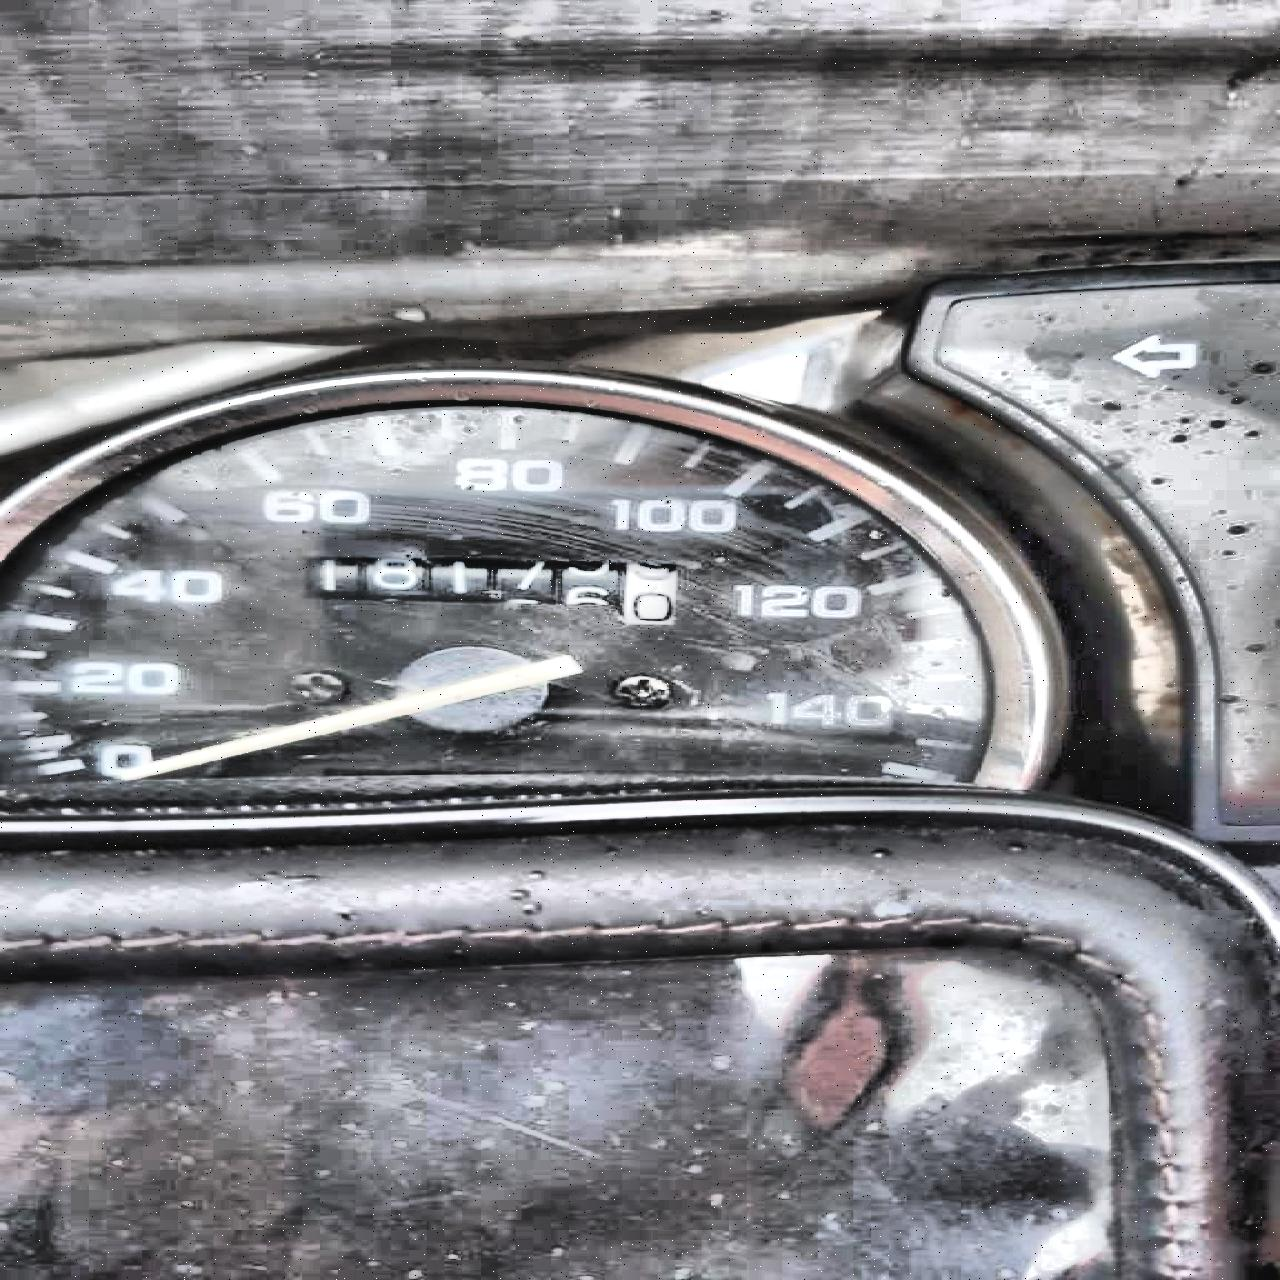0: (626, 585, 678, 626)
1: (442, 555, 471, 594), (318, 555, 340, 594)
6: (562, 582, 616, 618)
7: (502, 555, 549, 590)
8: (367, 555, 420, 591)
odometer: (304, 552, 689, 628)
